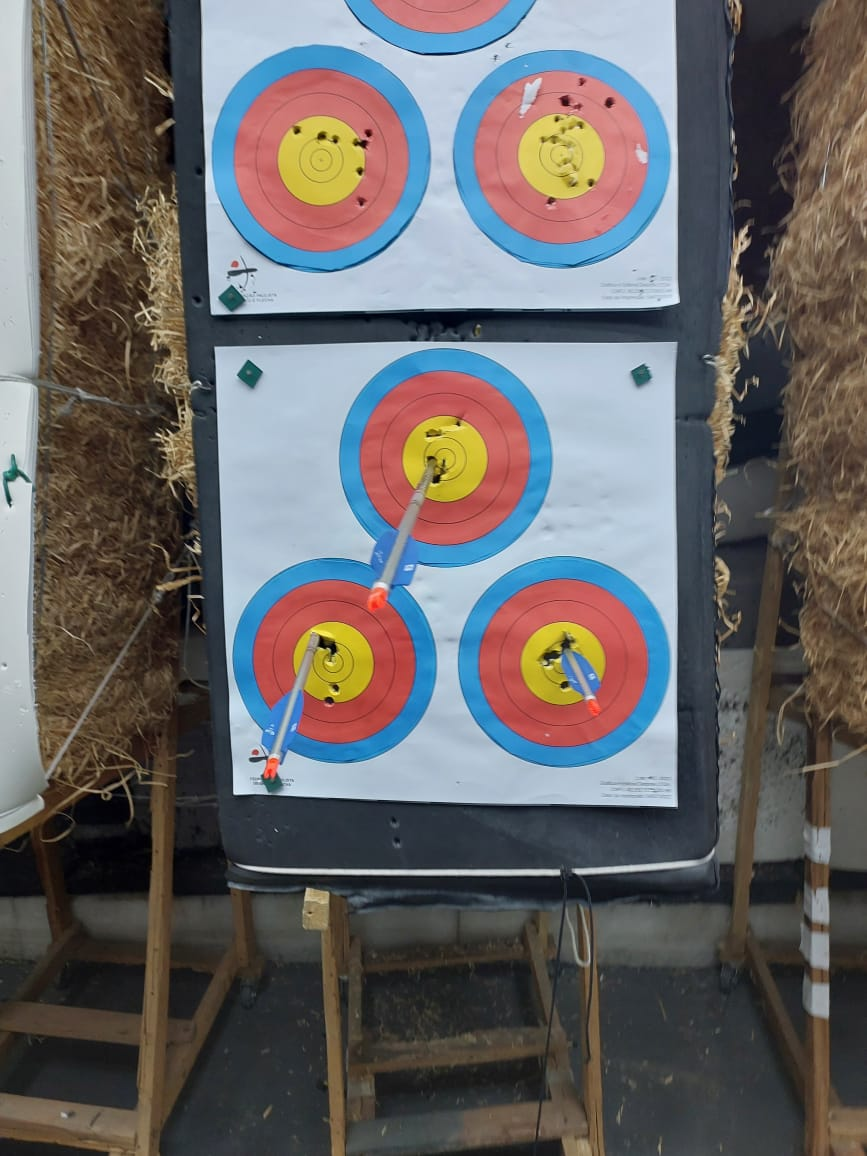10: (340, 363, 545, 557)
9: (230, 561, 454, 778)
9 linha 10: (470, 561, 668, 775)
